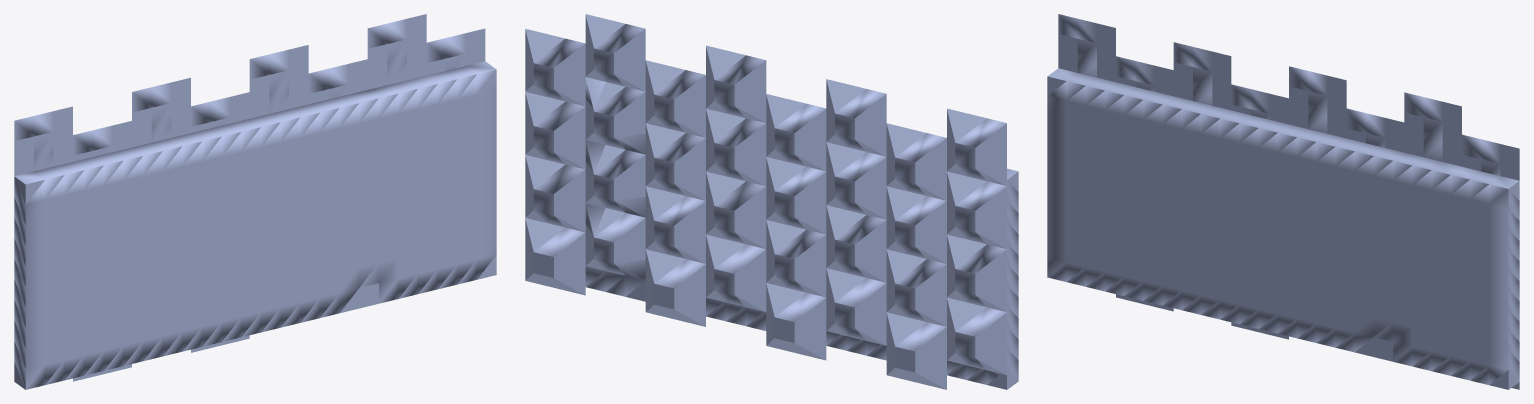
File: iceBg.gltf
The picture shows the model from 3 angles, left to right: view 1: azimuth 30°, elevation 25°; view 2: azimuth 150°, elevation 25°; view 3: azimuth 330°, elevation 25°; orthographic projection. The views are drawn at different scales.
Parts seen in each view (by area): view 1: iceBg.001; view 2: iceBg.001; view 3: iceBg.001.
Part boxes in pixels (x1,y1,x2,y2): iceBg.001: [14, 14, 496, 389]; iceBg.001: [525, 14, 1018, 389]; iceBg.001: [1047, 14, 1519, 389].
Bounding box in the file's own units: 24 × 13.7 × 2.
